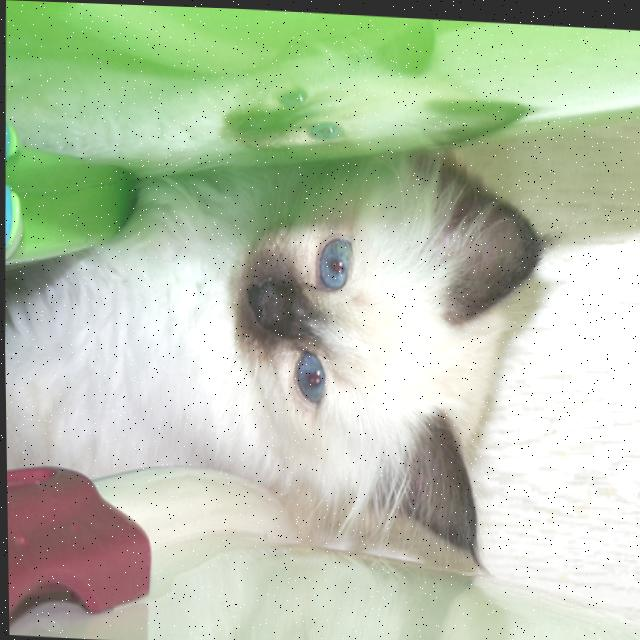Birman: (1, 123, 568, 562)
